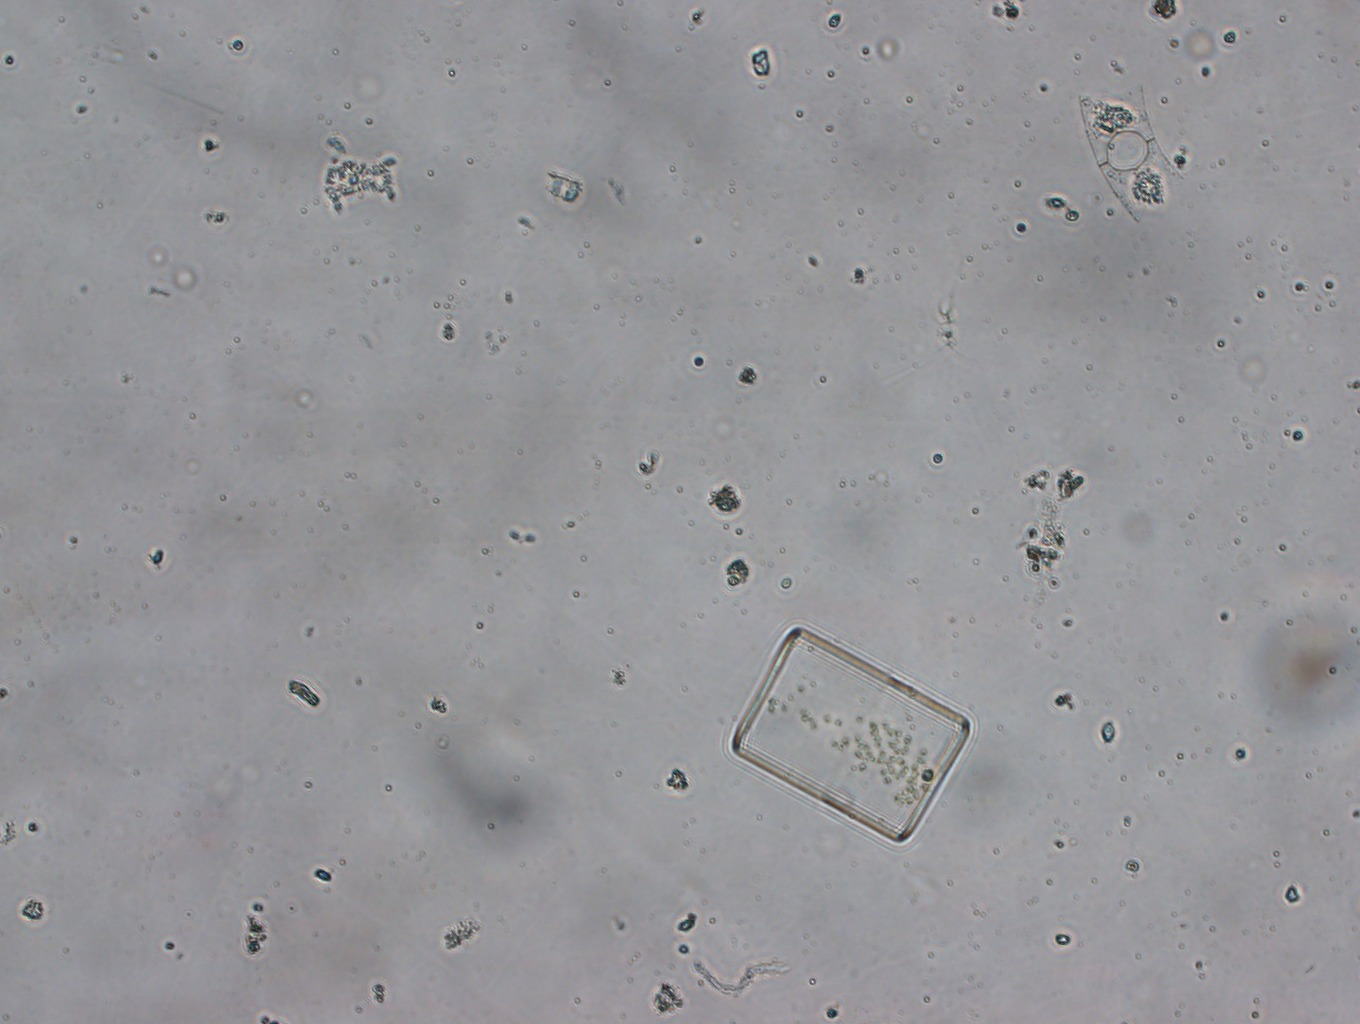guinardia flaccida: (727, 626, 980, 850)
